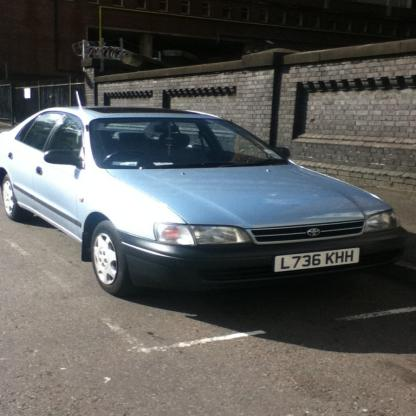Car: (0, 106, 409, 298)
